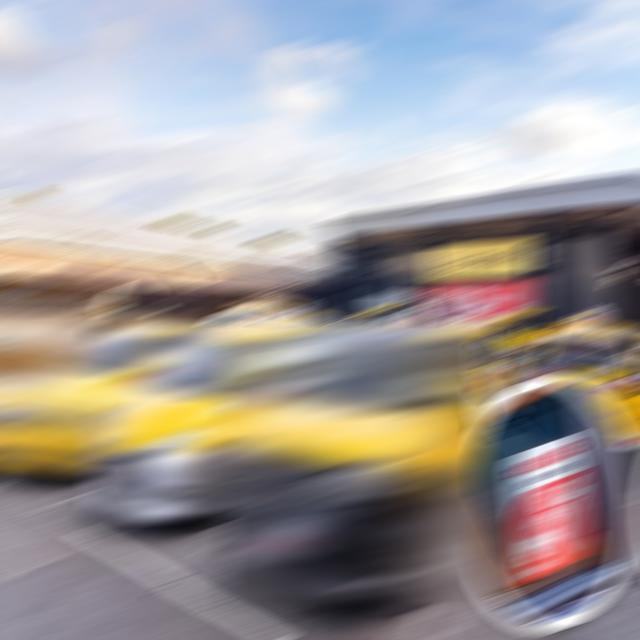Door: (222, 323, 484, 606), (88, 322, 338, 520)
Taxi: (0, 314, 208, 474)
